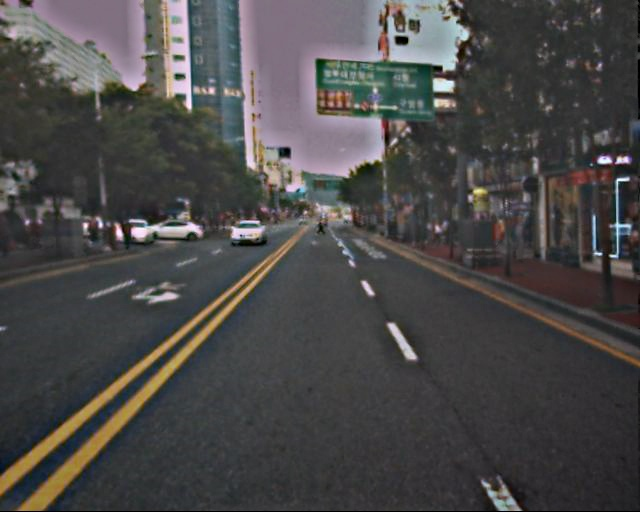person: (507, 214, 530, 270), (85, 217, 129, 243), (427, 219, 444, 241), (316, 216, 325, 239)
